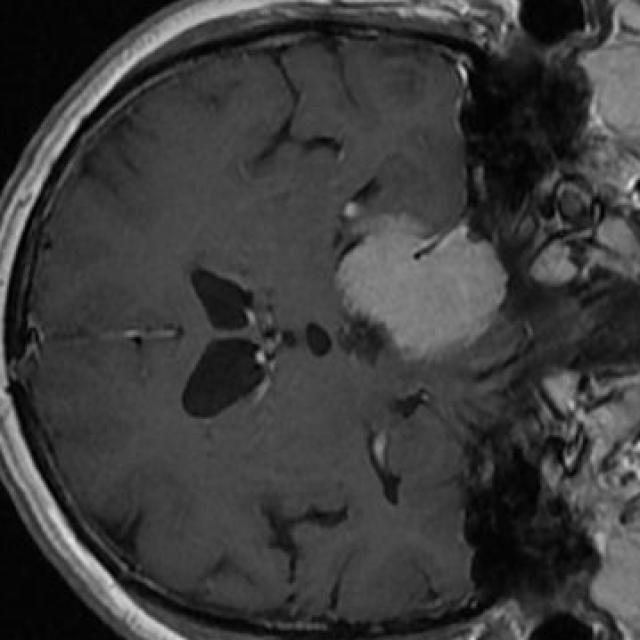meningioma: (335, 214, 510, 358)
